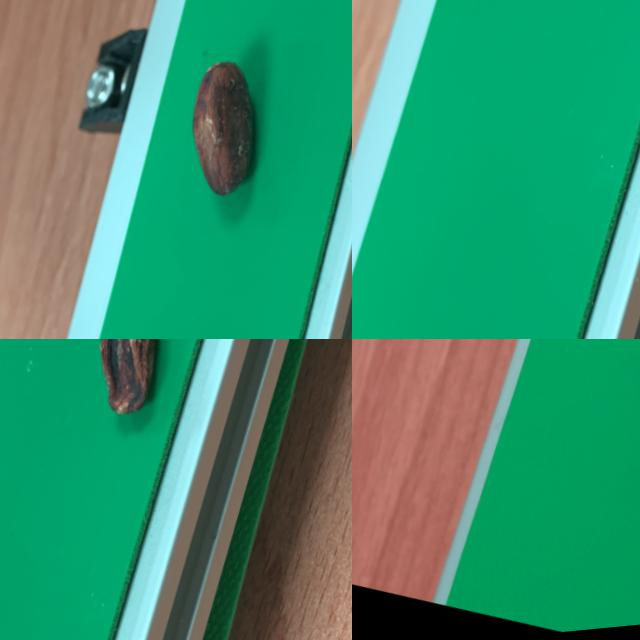Agglomerated_cocoabeans: (574, 339, 639, 606)
Fine_cocoabeans: (101, 0, 347, 312)
Flat_cocoabeans: (25, 339, 231, 487)
